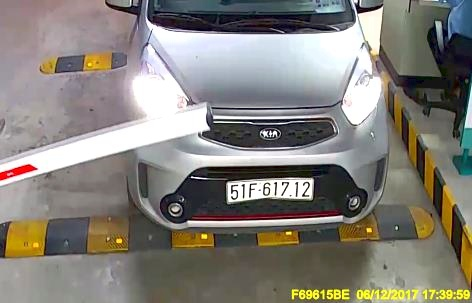plate: (220, 170, 316, 212)
